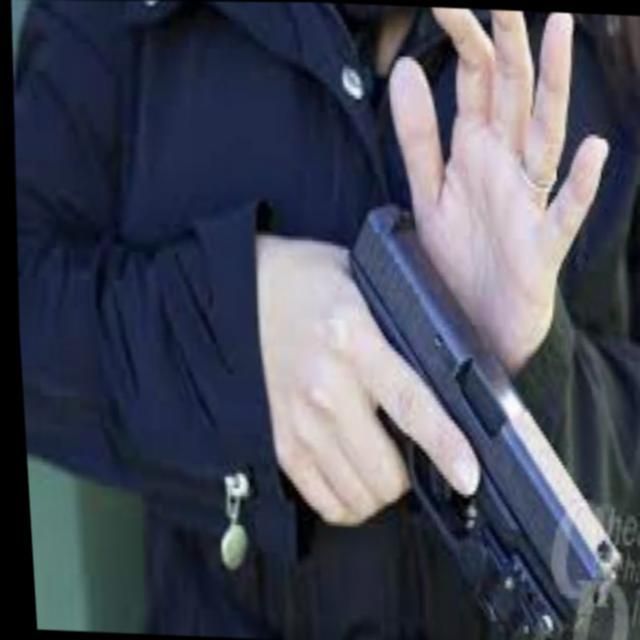weapon: (325, 193, 632, 640)
